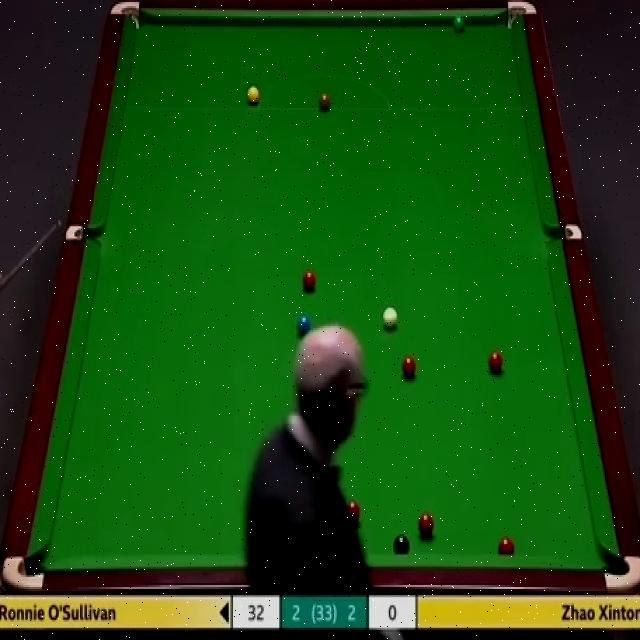black-ball: (393, 533, 409, 554)
blue-ball: (296, 314, 312, 337)
brown-ball: (318, 90, 332, 113)
green-ball: (453, 15, 467, 31)
pink-ball: (302, 266, 318, 293)
red-ball: (344, 498, 361, 527), (418, 511, 435, 539), (402, 355, 417, 381), (488, 350, 504, 374), (500, 536, 516, 556)
white-ball: (381, 304, 399, 330)
yellow-ball: (247, 85, 260, 105)
